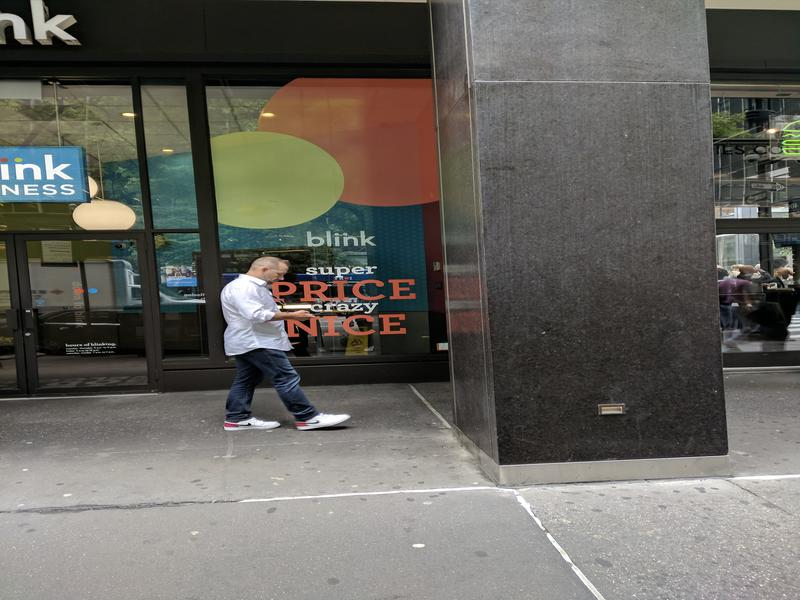door: (15, 225, 162, 390)
